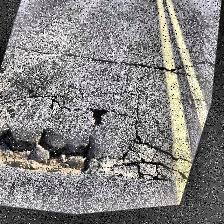pothole: (0, 113, 108, 189), (91, 108, 111, 130)
